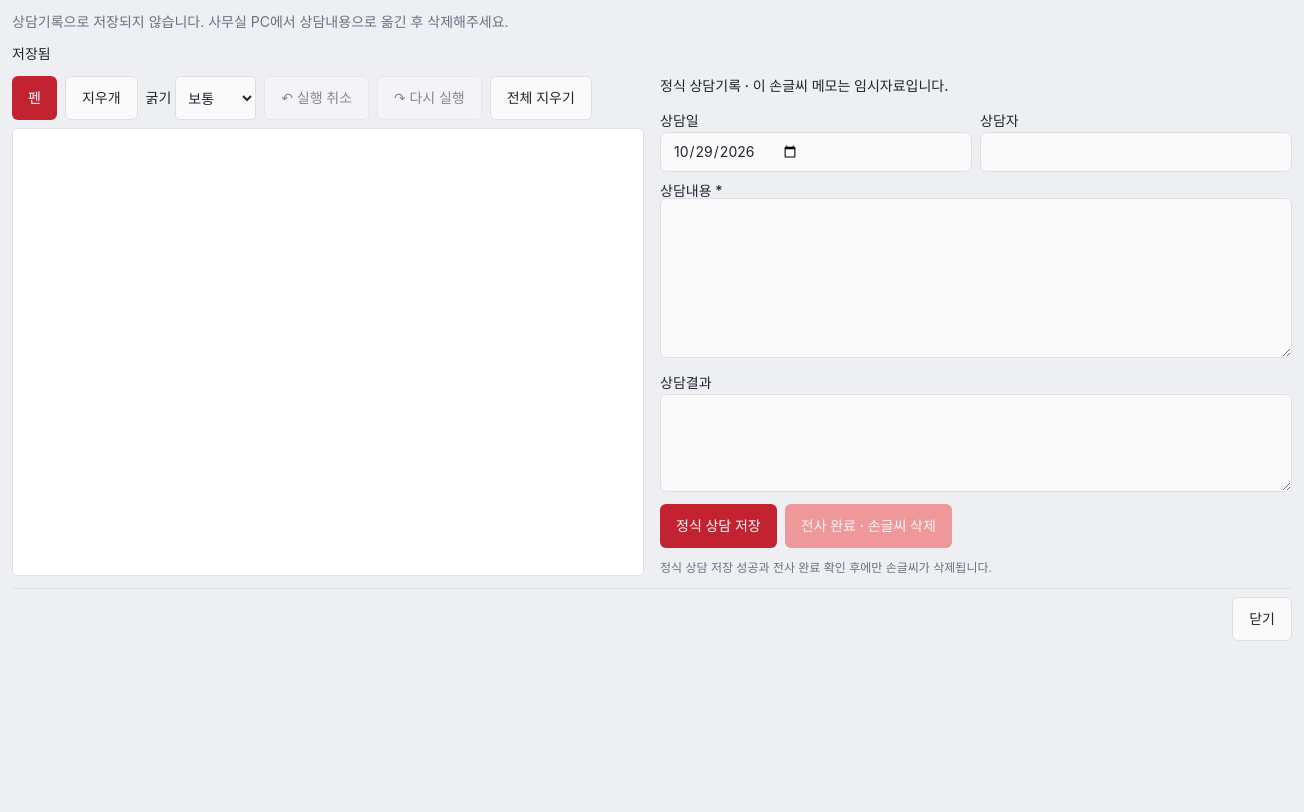
Test case: 임시 손글씨 전사 확인 UI › 열람·입력만으로 삭제를 허용하지 않고 정식 저장 성공 후에만 활성화
The image size is (1304, 812).
Expected: the button "전사 완료 · 손글씨 삭제" is disabled, 785,504 -> 952,548
Type "합성 전사내용" into the text box labelled "상담내용 *" at (976, 278), box 660,198 -> 1292,358
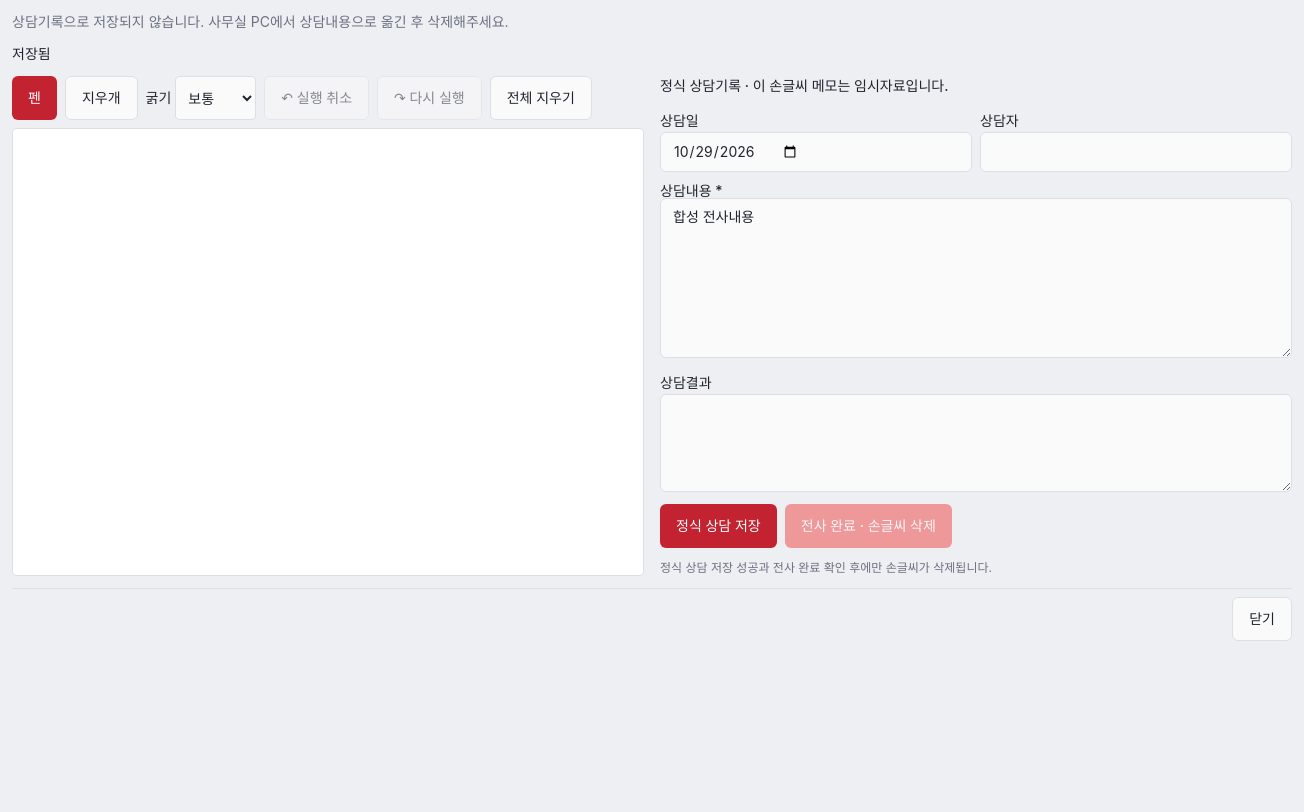
Expected: the button "전사 완료 · 손글씨 삭제" is disabled, 785,504 -> 952,548
Click the button "정식 상담 저장" at (718, 526), box 660,504 -> 777,548
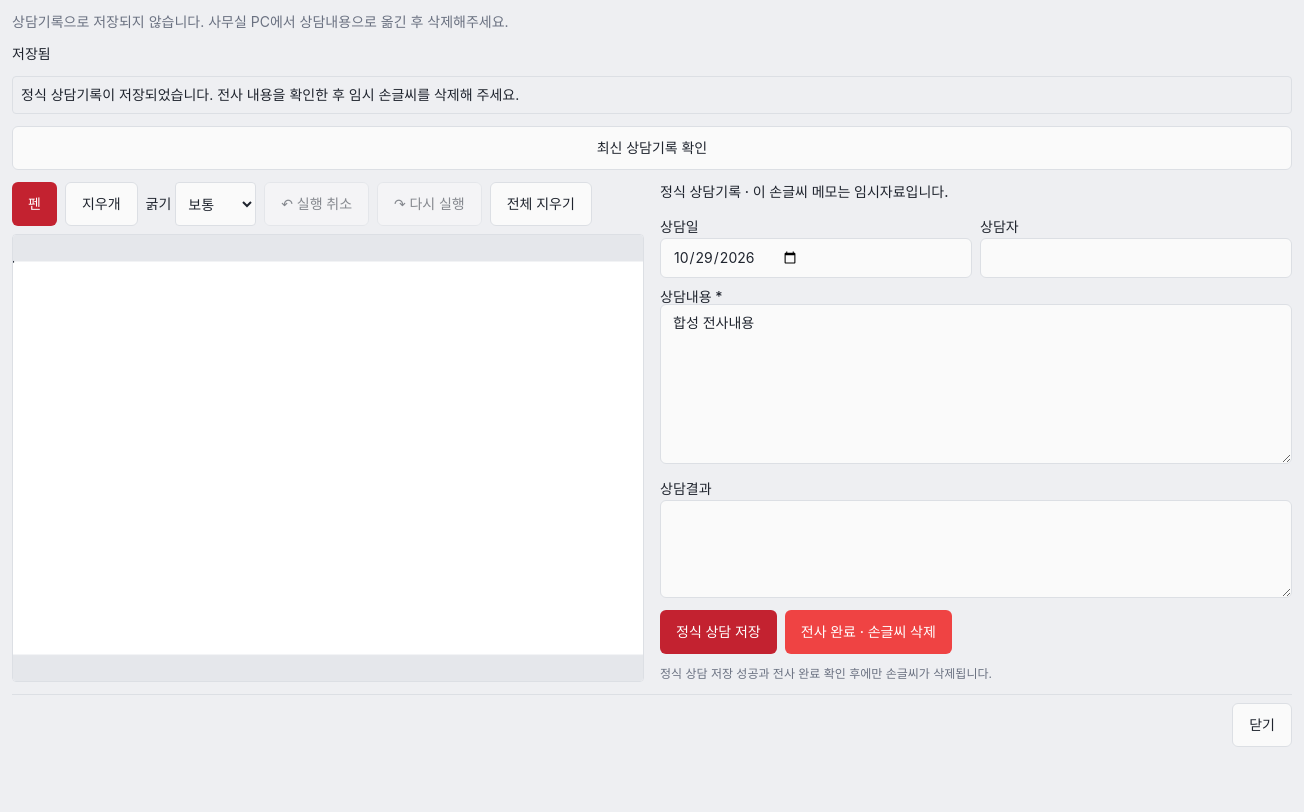
Expected: the button "전사 완료 · 손글씨 삭제" is enabled, 785,610 -> 952,654
Type "수정" into the text box labelled "상담결과" at (976, 549), box 660,500 -> 1292,598
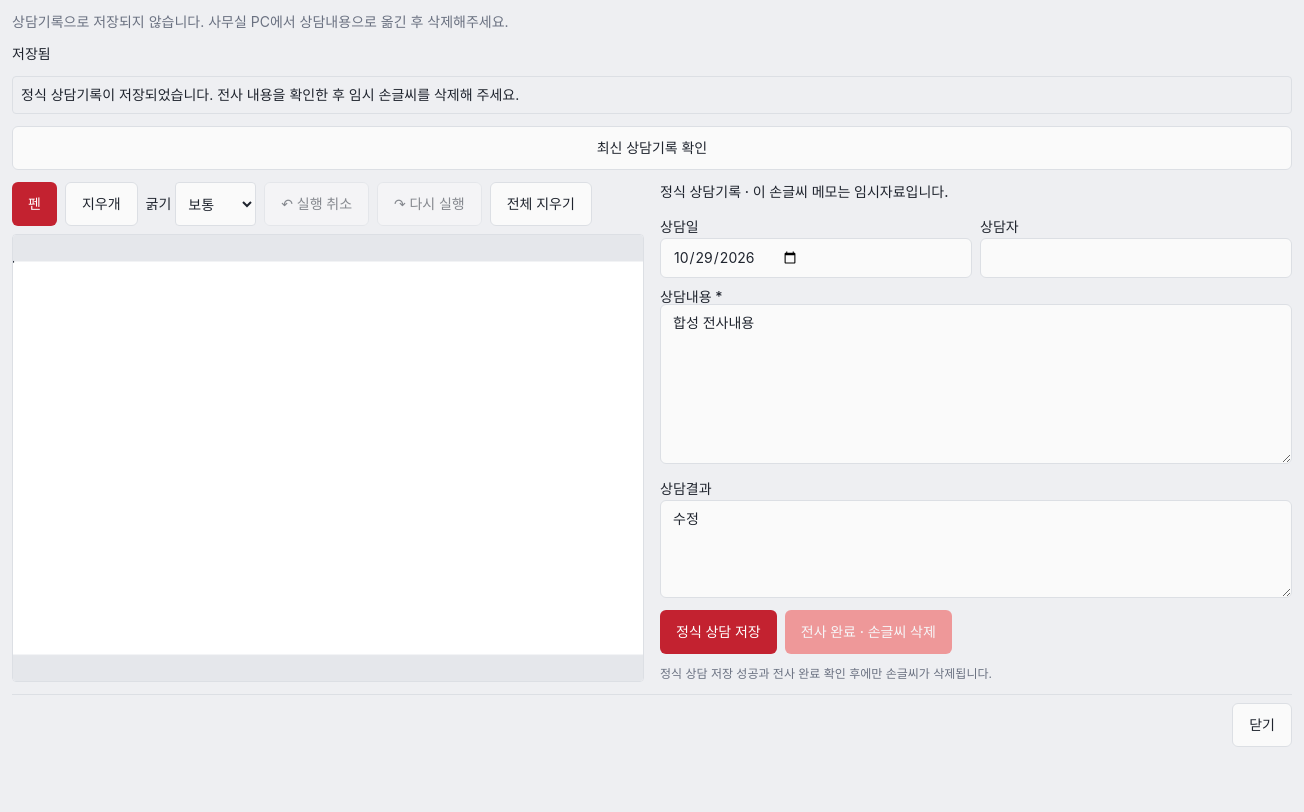
Expected: the button "전사 완료 · 손글씨 삭제" is disabled, 785,610 -> 952,654
